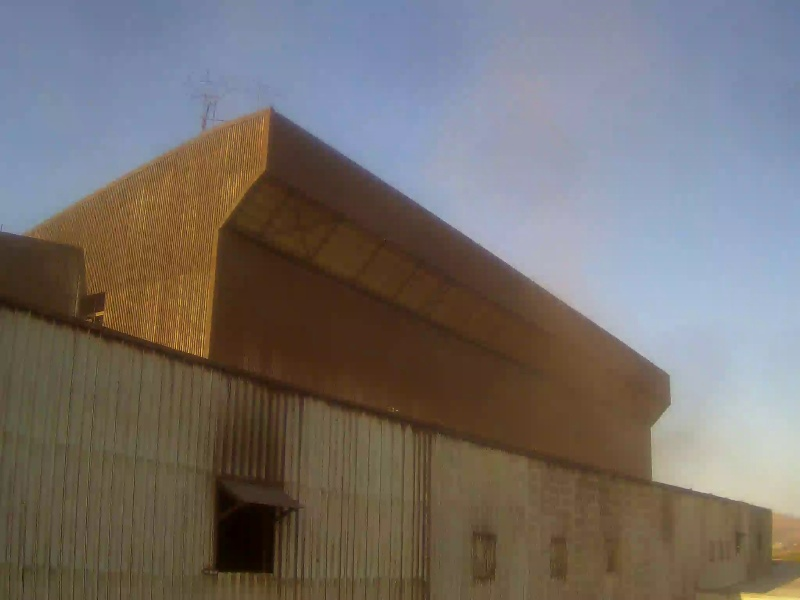bom: (17, 7, 179, 195)
ruim: (267, 109, 696, 523)
